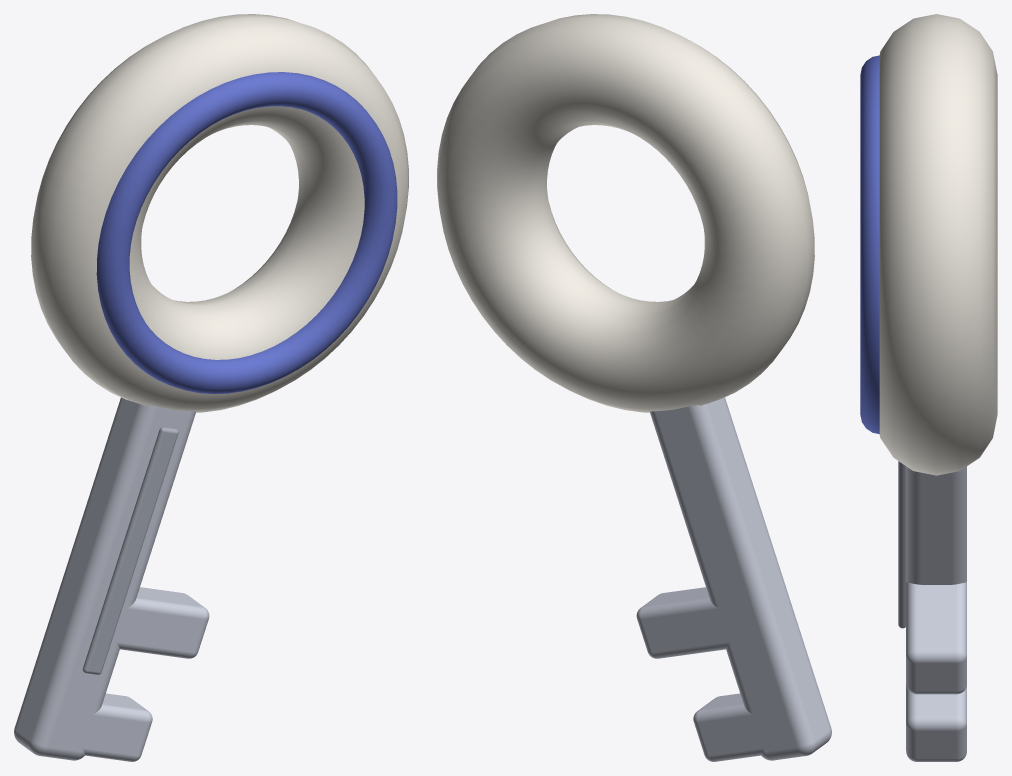
The model's file is key.glb.
The picture shows the model from 3 angles, left to right: view 1: azimuth 30°, elevation 25°; view 2: azimuth 150°, elevation 25°; view 3: azimuth 270°, elevation 25°; orthographic projection. The views are drawn at different scales.
Visible parts, largest first — view 1: key; view 2: key; view 3: key.
Part boxes in pixels (box(x1,y1,x2,y2)): key: box(14, 14, 408, 761); key: box(437, 14, 831, 761); key: box(860, 14, 997, 761).
Bounding box in the file's own units: 1.1 × 1.97 × 0.315.
